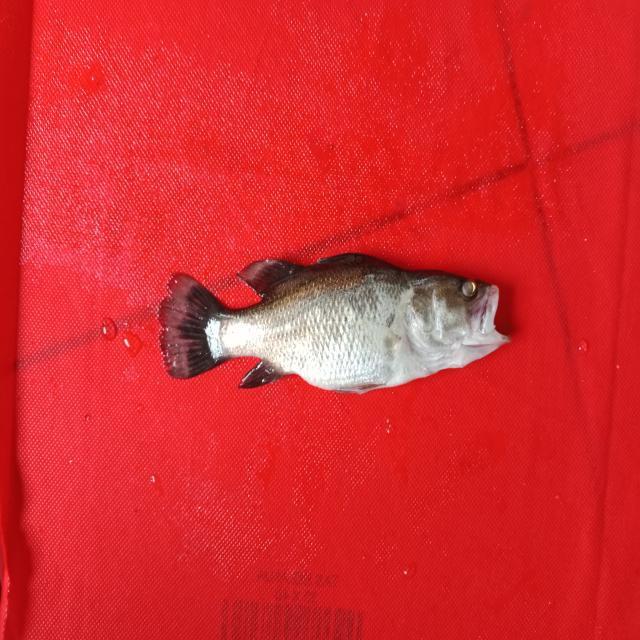ikan: (142, 228, 514, 416)
